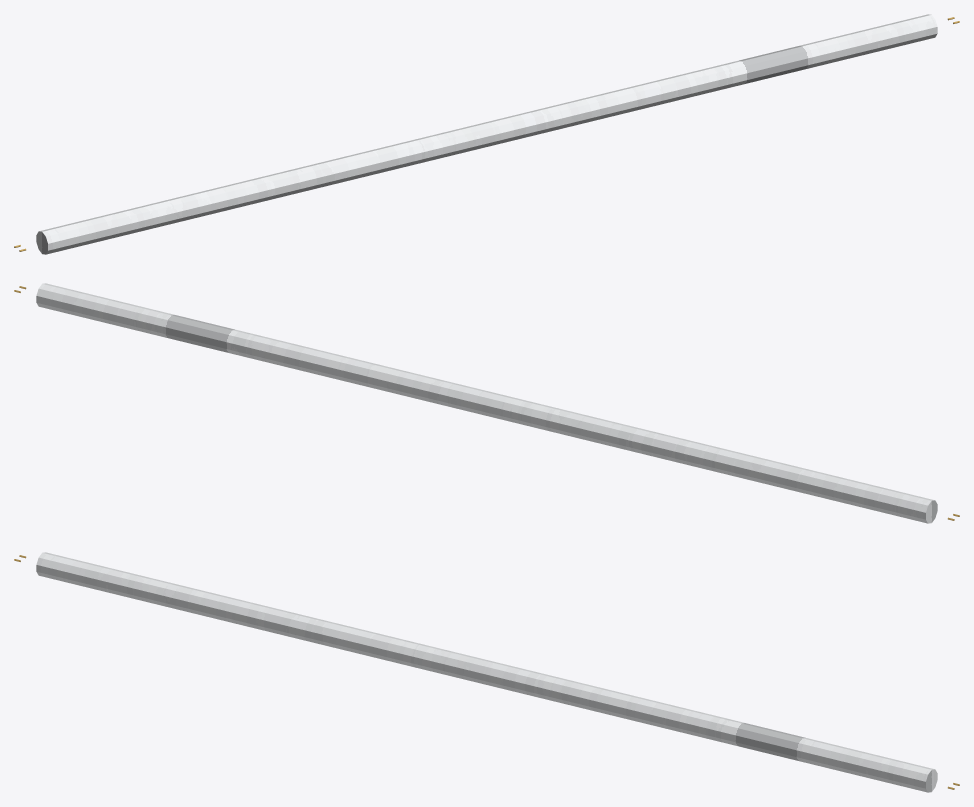
3 renders of one model, top to bottom at view 1: azimuth 30°, elevation 25°; view 2: azimuth 150°, elevation 25°; view 3: azimuth 330°, elevation 25°, orthographic.
Parts seen in each view (by area): view 1: p; view 2: p; view 3: p.
Boxes of the visible parts, x1,y1,x2,y2 form: p: [14, 14, 959, 254]; p: [14, 283, 959, 523]; p: [14, 552, 959, 792].
Bounding box in the file's own units: 1.24 × 0.028 × 0.0266.
3 materials, 3 textured.
